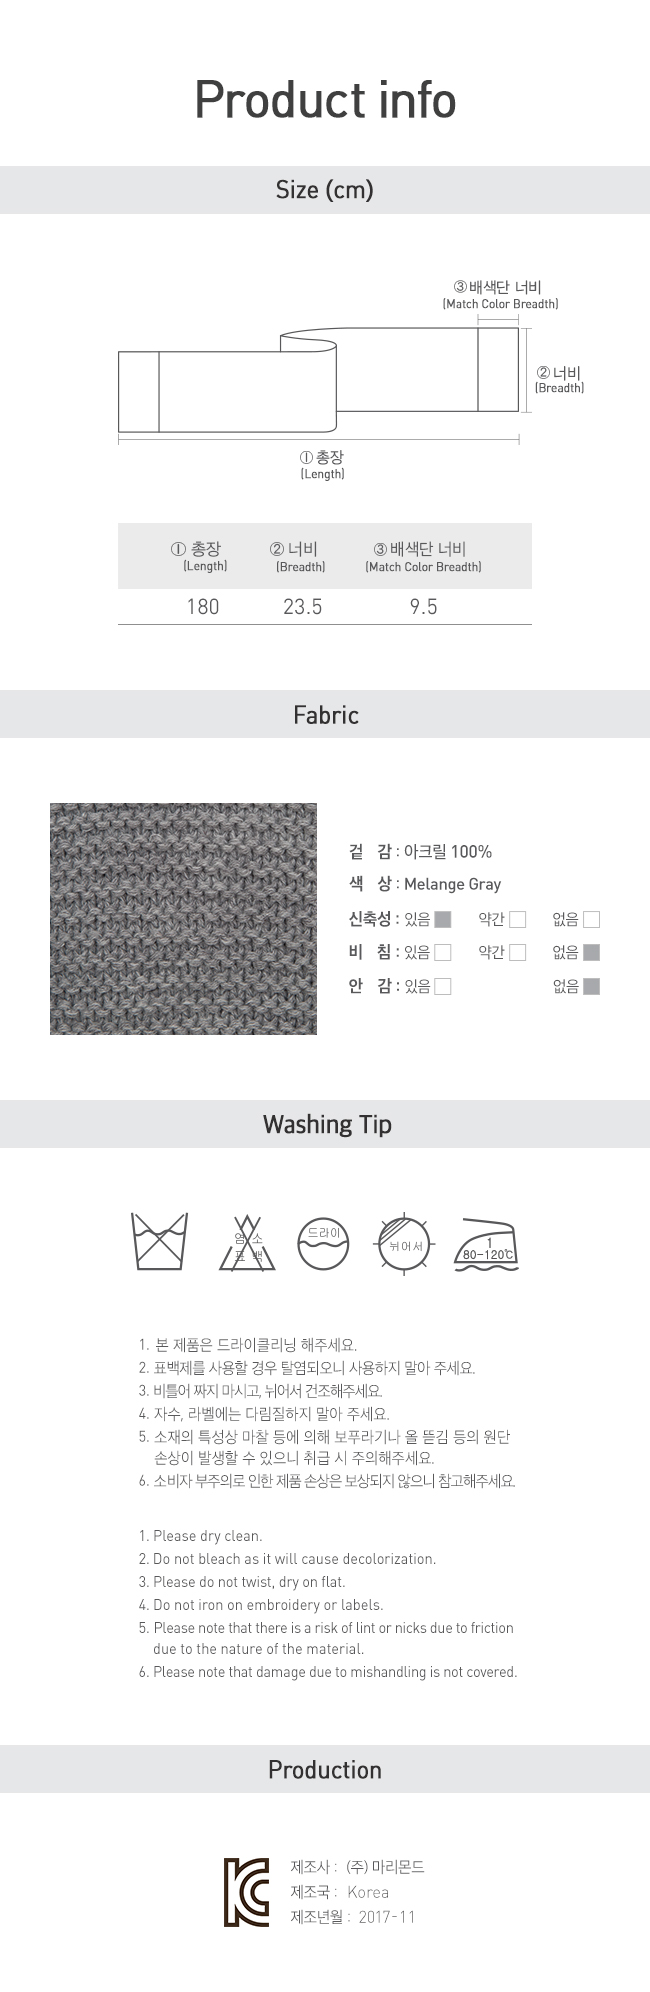do_not_bleach: (217, 1213, 275, 1274)
